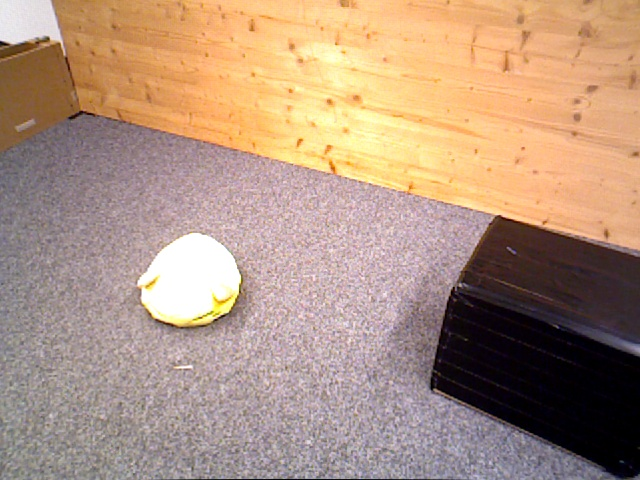grasp: (137, 233, 242, 329)
push: (428, 216, 640, 474)
